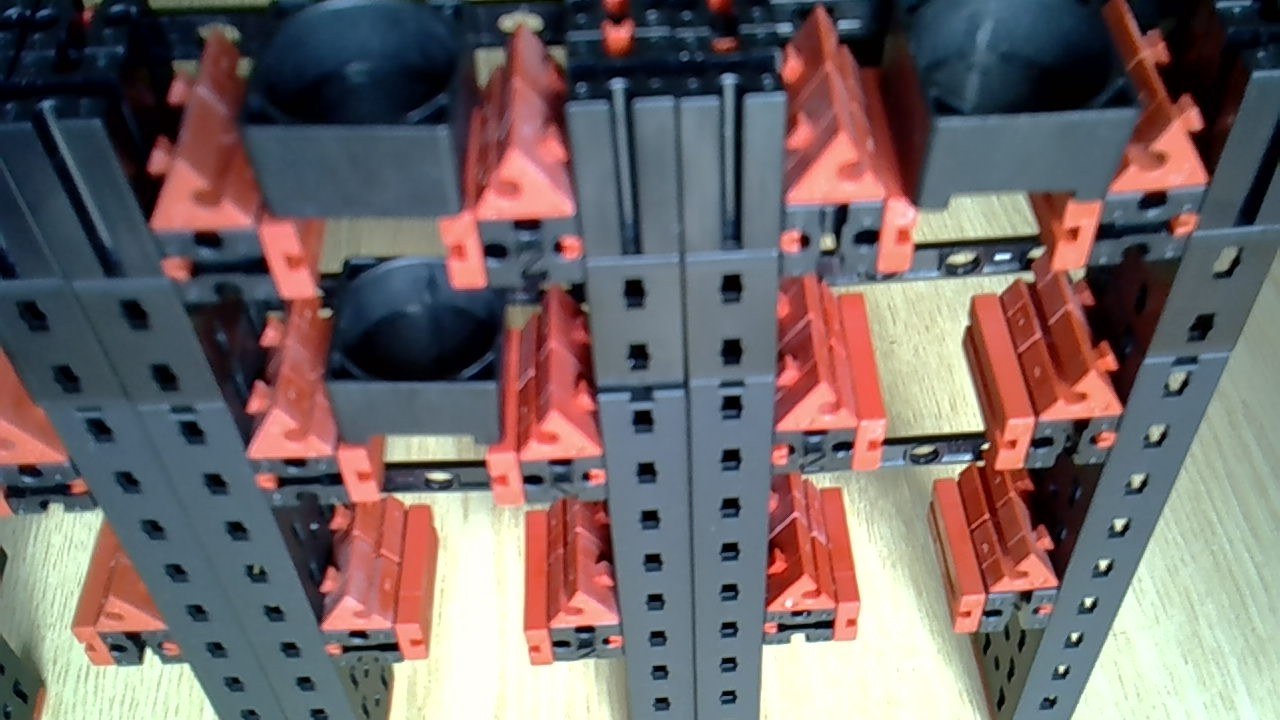Behaelter: (881, 1, 1137, 201), (239, 1, 465, 215), (326, 256, 506, 441)
